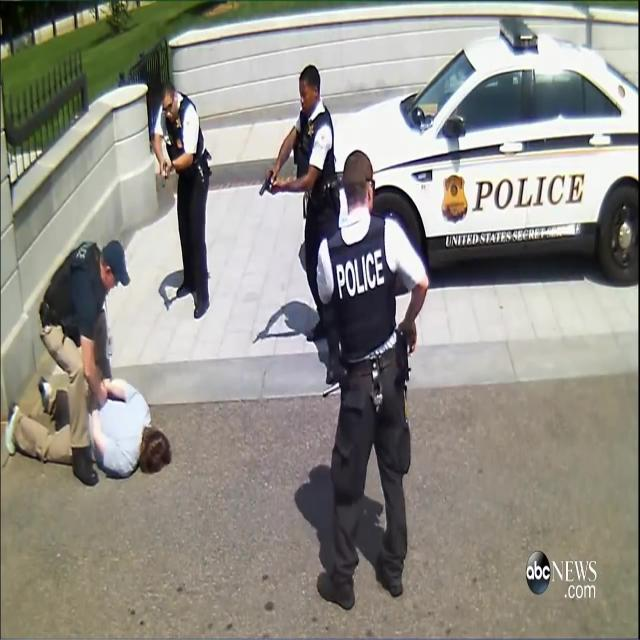Weapon: (389, 291, 440, 428), (138, 149, 188, 202), (252, 164, 280, 214)
